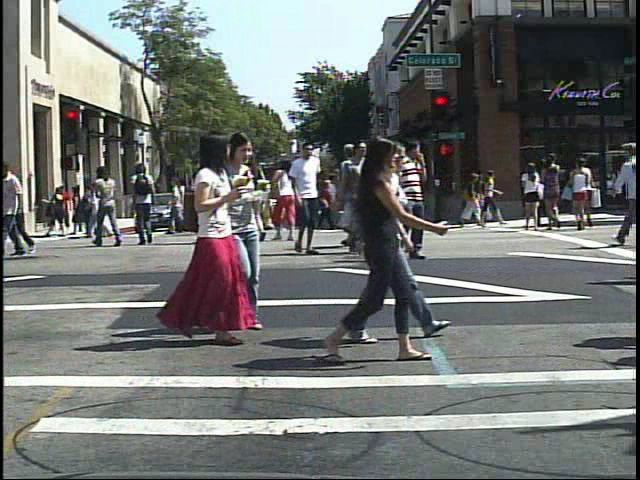person: (315, 127, 440, 364), (335, 135, 442, 346), (174, 128, 257, 348), (225, 129, 271, 333), (383, 135, 438, 262), (375, 136, 421, 261), (284, 137, 324, 260), (342, 138, 380, 249), (363, 142, 398, 250), (240, 145, 276, 246), (609, 127, 638, 249), (272, 148, 304, 248), (90, 162, 125, 249), (132, 165, 162, 246), (518, 158, 546, 234), (282, 164, 303, 233), (57, 183, 78, 233)
